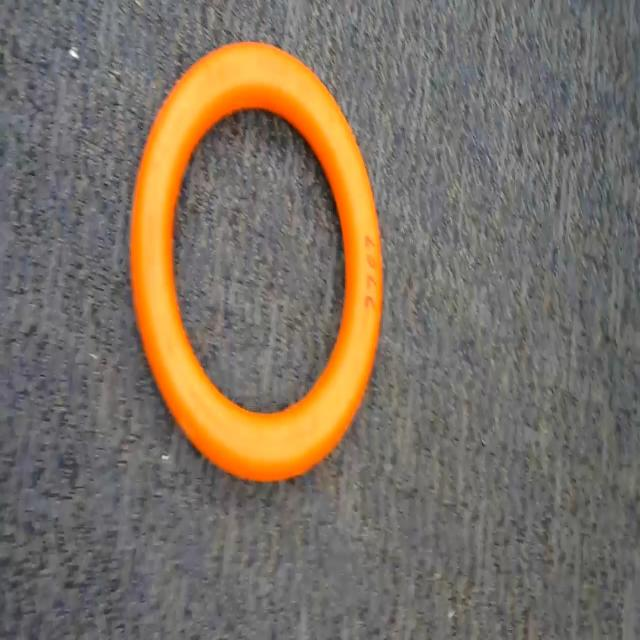note: (122, 32, 400, 490)
